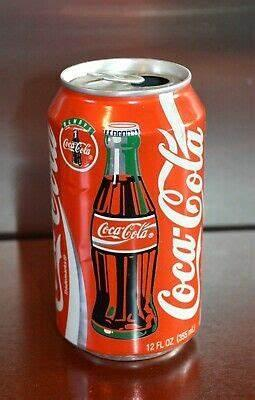metal: (48, 58, 206, 360)
